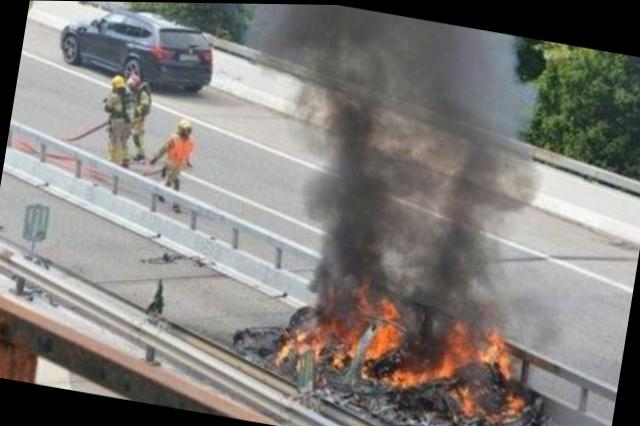fire: (268, 262, 556, 423)
